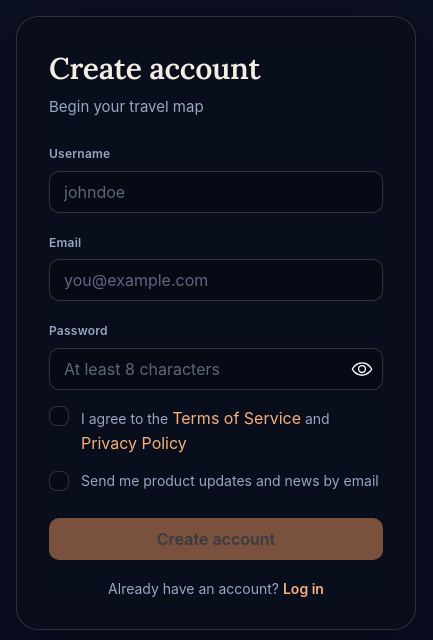
Test: SignUpPage › конфликт email (409) показывает ошибку под полем Email
Type "alice" into the field labelled "Username" at (216, 192), box [49,171,383,213]
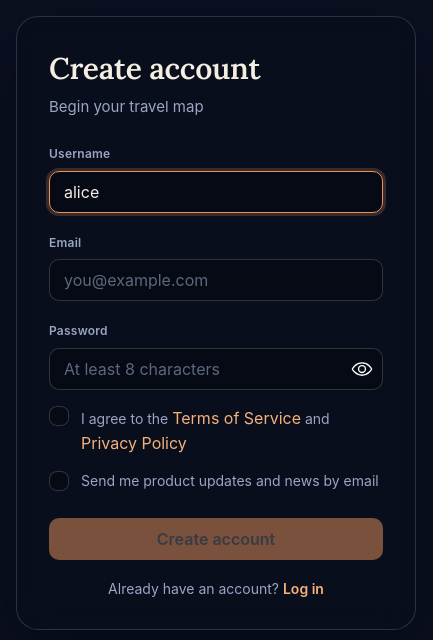
Type "taken@example.com" into the field labelled "Email" at (216, 280), box [49,259,383,301]
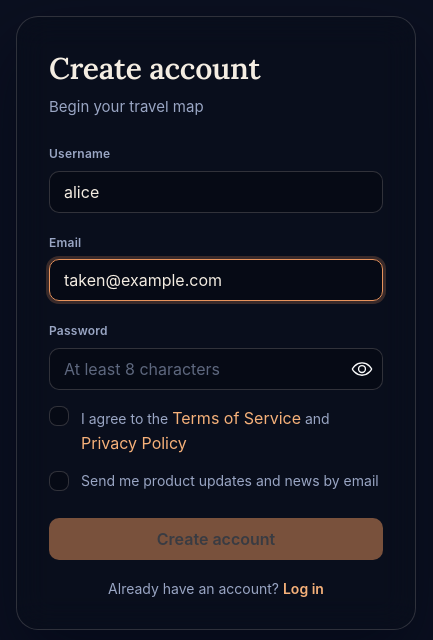
Type "s3cret-pass" into the password field labelled "Password" at (216, 369), box [50,349,382,389]
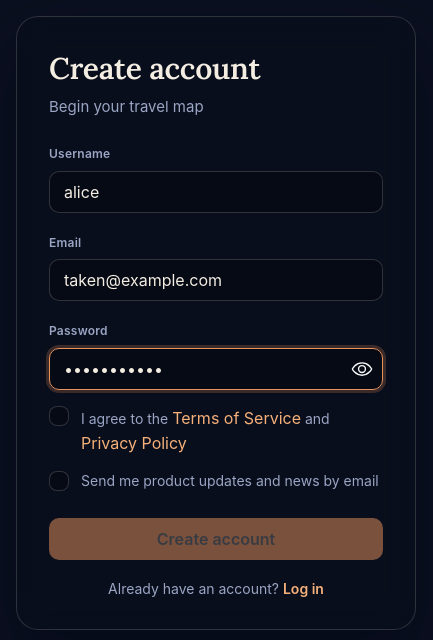
Click the checkbox labelled "I agree to the Terms of Service and Privacy Policy" at (59, 416), box [49,406,69,426]
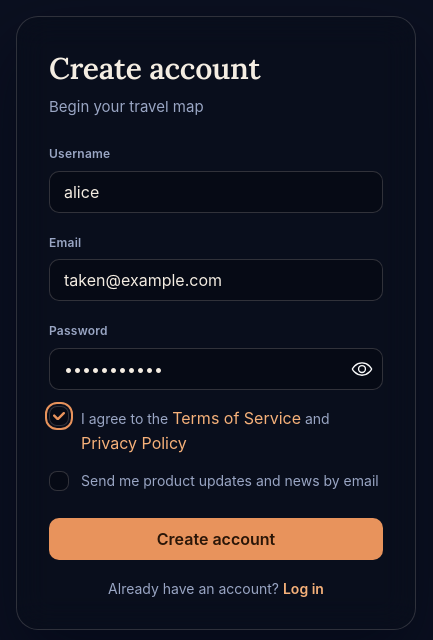
Click the button "Create account" at (216, 539), box [49,518,383,560]
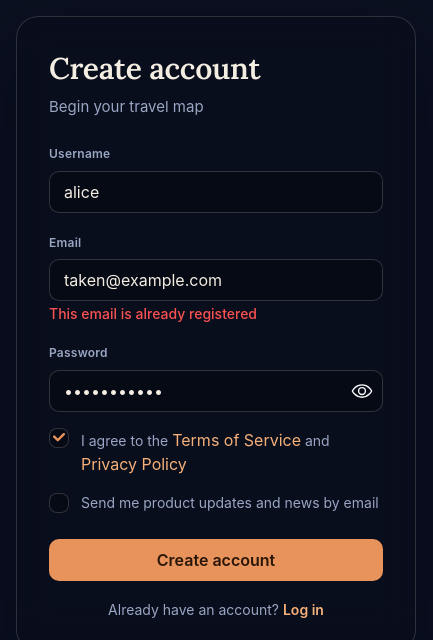
Result: the text "This email is already registered" is shown at [49,305,257,322]
